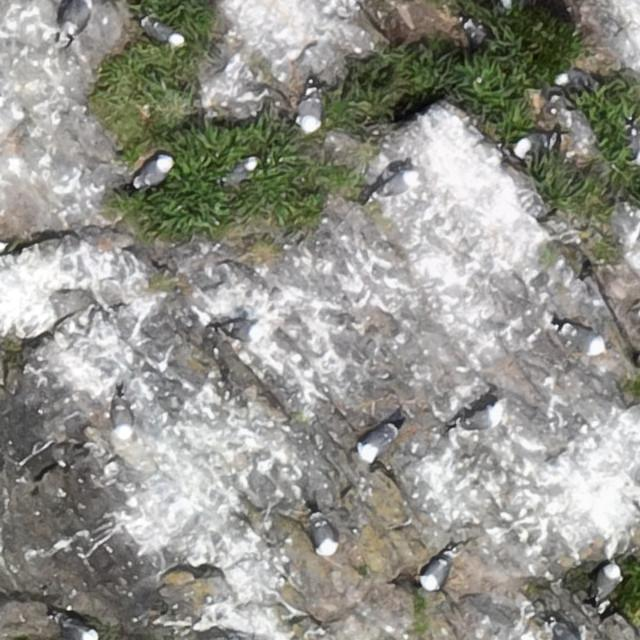umineko: (370, 170, 421, 206), (561, 326, 606, 358), (139, 155, 172, 185), (422, 558, 450, 590), (360, 428, 392, 456), (594, 564, 619, 596), (147, 20, 181, 43), (298, 96, 320, 131), (312, 521, 334, 555), (461, 408, 498, 428), (60, 618, 92, 640), (514, 133, 549, 153), (114, 403, 132, 437), (228, 157, 254, 180), (557, 68, 589, 85), (631, 128, 638, 162)
